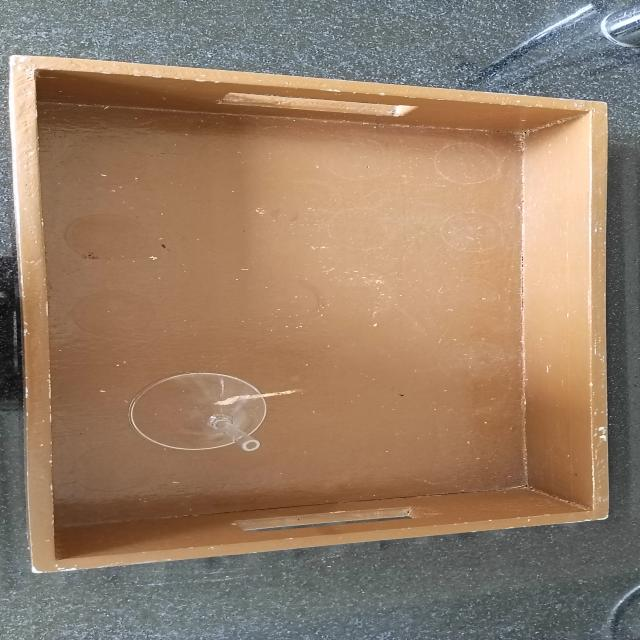funnel: (111, 364, 289, 461)
